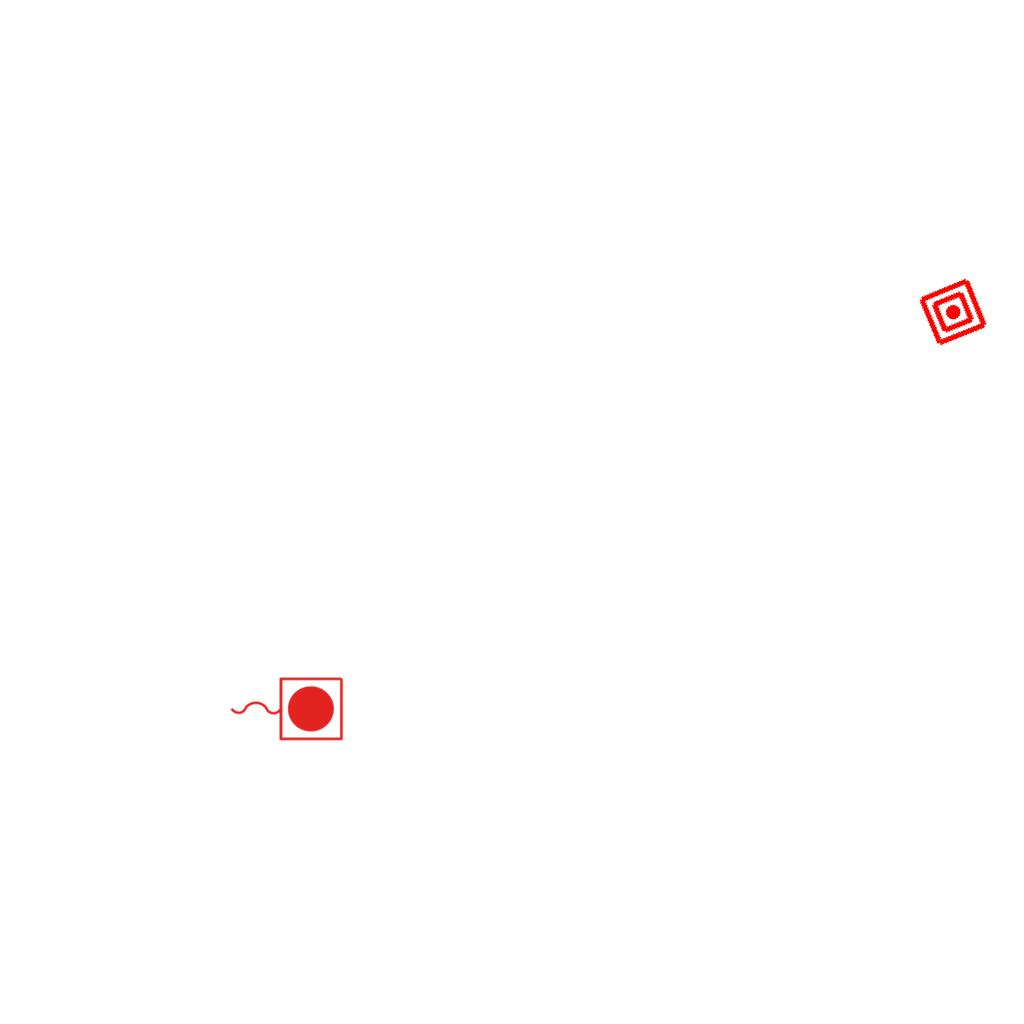NAM-Nichtautomatischer_Melder: (916, 275, 990, 349)
Zugtaster: (225, 672, 347, 744)
